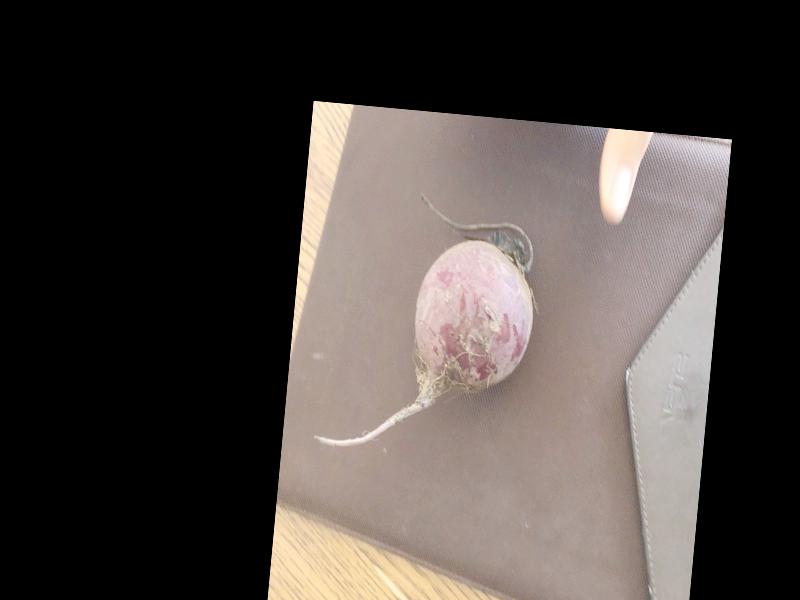Beet: (315, 187, 542, 463)
